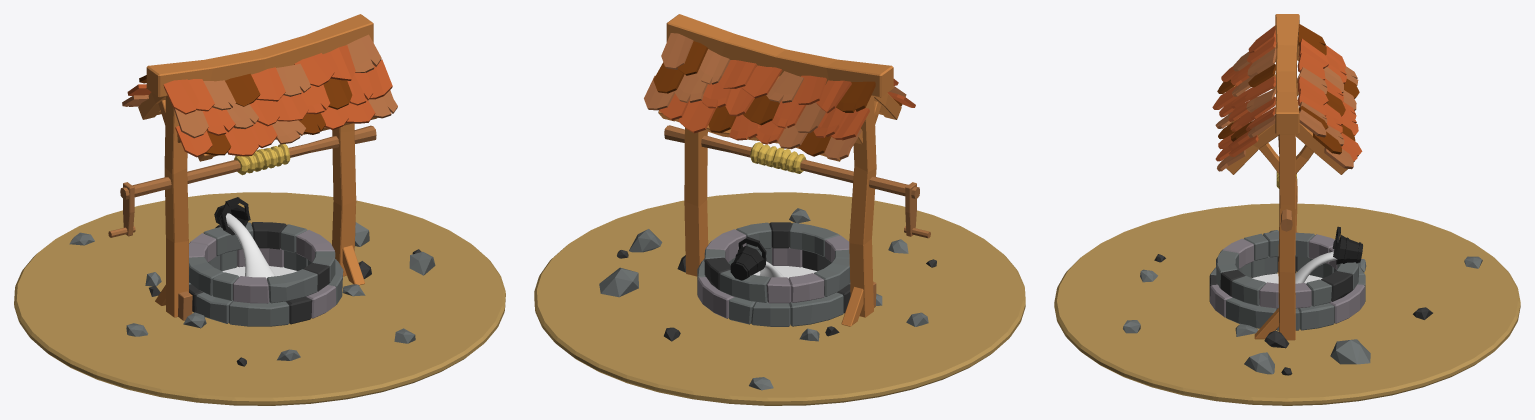
The model's file is Pozoo.fbx.
3 views of the same model, side by side, from view 1: azimuth 30°, elevation 25°; view 2: azimuth 150°, elevation 25°; view 3: azimuth 270°, elevation 25° (orthographic). The views are drawn at different scales.
Visible parts, largest first — view 1: Cylinder.002, Plane.008, Cube.001, Cube.006, Cube, Cube.005, Cube.004, Cube.020, Cylinder.001, Cylinder, Cube.002, Cube.017 (+4 smaller); view 2: Cylinder.002, Plane.001, Cube.001, Cube.006, Cube, Cube.005, Cube.004, Cube.020, Cylinder, Cube.002, Icosphere.001, Cube.018 (+3 smaller); view 3: Cylinder.002, Plane.001, Cube.001, Plane.008, Cube, Cube.004, Cube.006, Icosphere.001, Cube.002, Cube.010, Cube.009, Icosphere.006 (+1 smaller).
Boxes of the visible parts, x1,y1,x2,y2 form: Cylinder.002: [14, 192, 505, 405]; Plane.008: [163, 34, 397, 157]; Cube.001: [189, 222, 335, 303]; Cube.006: [146, 14, 373, 97]; Cube: [189, 248, 343, 326]; Cube.005: [164, 96, 188, 317]; Cube.004: [332, 123, 356, 276]; Cube.020: [120, 125, 376, 199]; Cylinder.001: [226, 213, 275, 278]; Cylinder: [234, 144, 290, 175]; Cube.002: [214, 197, 250, 235]; Cube.017: [342, 245, 364, 285]; Cylinder.002: [534, 192, 1025, 405]; Plane.001: [644, 33, 875, 160]; Cube.001: [704, 222, 850, 303]; Cube.006: [666, 14, 893, 97]; Cube: [697, 247, 850, 326]; Cube.005: [849, 95, 876, 317]; Cube.004: [684, 127, 708, 276]; Cube.020: [664, 125, 919, 198]; Cylinder: [750, 142, 806, 173]; Cube.002: [730, 236, 766, 280]; Icosphere.001: [599, 267, 638, 297]; Cube.018: [841, 287, 863, 326]; Cylinder.002: [1054, 203, 1520, 405]; Plane.001: [1297, 24, 1362, 169]; Cube.001: [1216, 232, 1358, 308]; Plane.008: [1212, 25, 1276, 171]; Cube: [1209, 256, 1365, 330]; Cube.004: [1278, 134, 1296, 340]; Cube.006: [1275, 14, 1299, 134]; Icosphere.001: [1330, 339, 1370, 364]; Cube.002: [1332, 226, 1362, 264]; Cube.010: [1295, 123, 1347, 174]; Cube.009: [1226, 123, 1279, 174]; Icosphere.006: [1244, 352, 1274, 374].
Bounding box in the file's own units: 4400 × 2556 × 4400.
